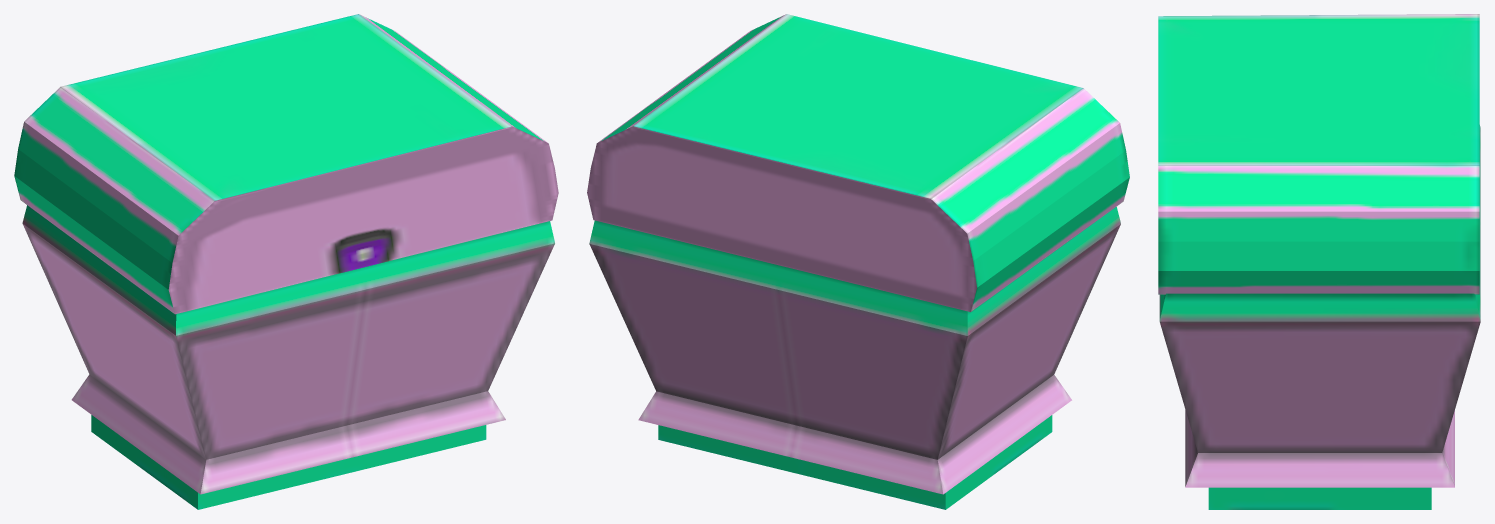
Rendered from chest_santiago.fbx.
The picture shows the model from 3 angles, left to right: view 1: azimuth 30°, elevation 25°; view 2: azimuth 150°, elevation 25°; view 3: azimuth 270°, elevation 25°; orthographic projection. The views are drawn at different scales.
Visible parts, largest first — view 1: Cube.001, Cube; view 2: Cube.001, Cube; view 3: Cube.001, Cube.
Part boxes in pixels (<box>): Cube.001: <box>14,14,558,314</box>; Cube: <box>22,205,554,509</box>; Cube.001: <box>587,14,1129,311</box>; Cube: <box>589,207,1120,509</box>; Cube.001: <box>1158,14,1479,294</box>; Cube: <box>1159,125,1480,509</box>.
Bounding box in the file's own units: 294 × 237 × 201.
2 materials, 2 textured.
